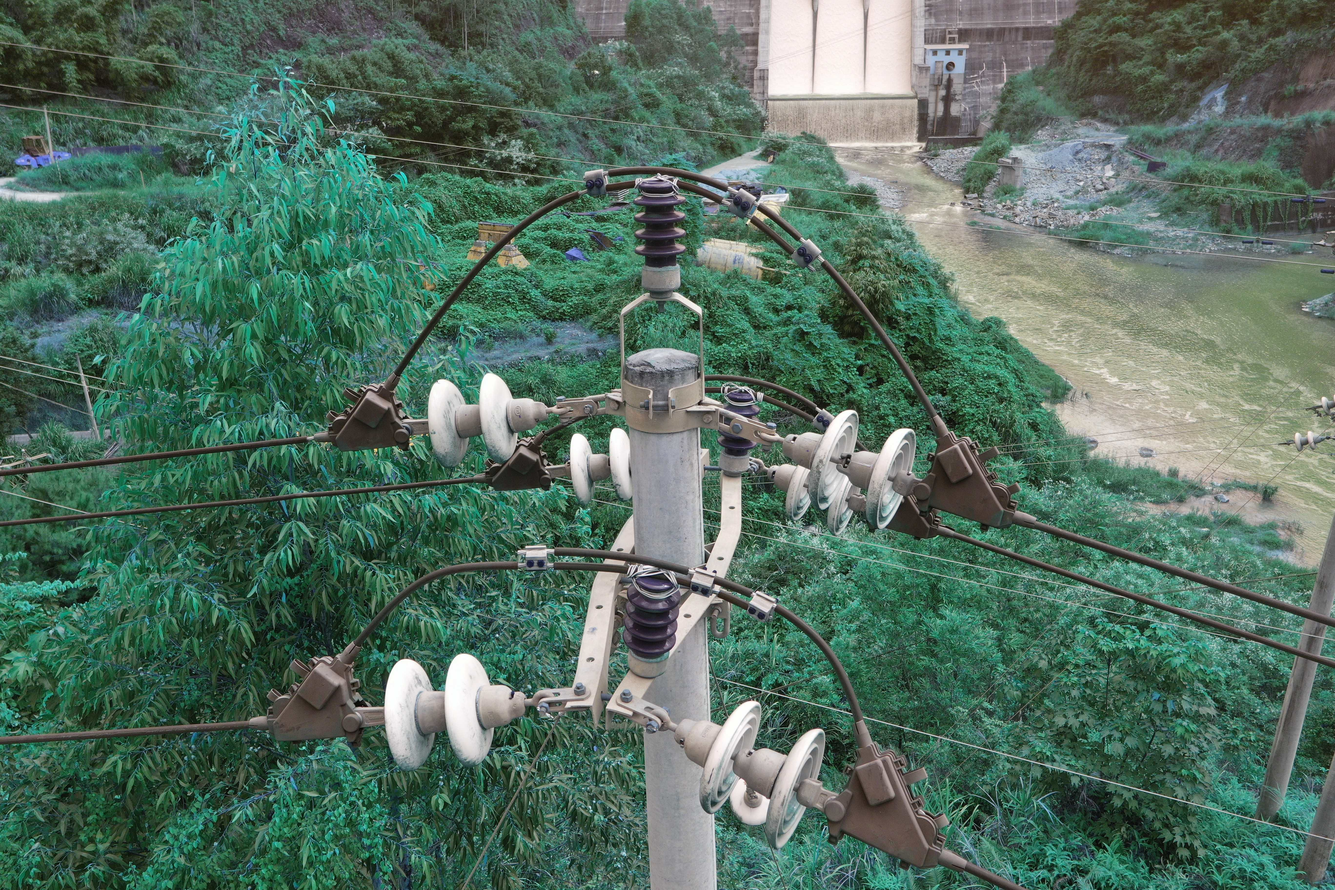severe_soiling_no_discharge_whole: (671, 696, 828, 852), (777, 403, 919, 532), (381, 650, 528, 772), (425, 371, 548, 470), (763, 461, 856, 537), (568, 426, 631, 507)
